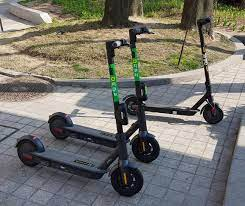kick_board: (15, 39, 144, 196), (123, 17, 223, 123)
kick_body: (146, 105, 196, 116)
kick_handler: (104, 39, 130, 57), (129, 26, 155, 42), (197, 18, 210, 27)
kick_neck: (106, 65, 127, 157), (131, 50, 148, 127), (199, 31, 213, 98)
kick_wheel: (110, 165, 143, 194), (131, 133, 159, 160), (16, 135, 41, 165), (49, 112, 71, 138), (201, 105, 222, 123), (125, 95, 139, 115)
